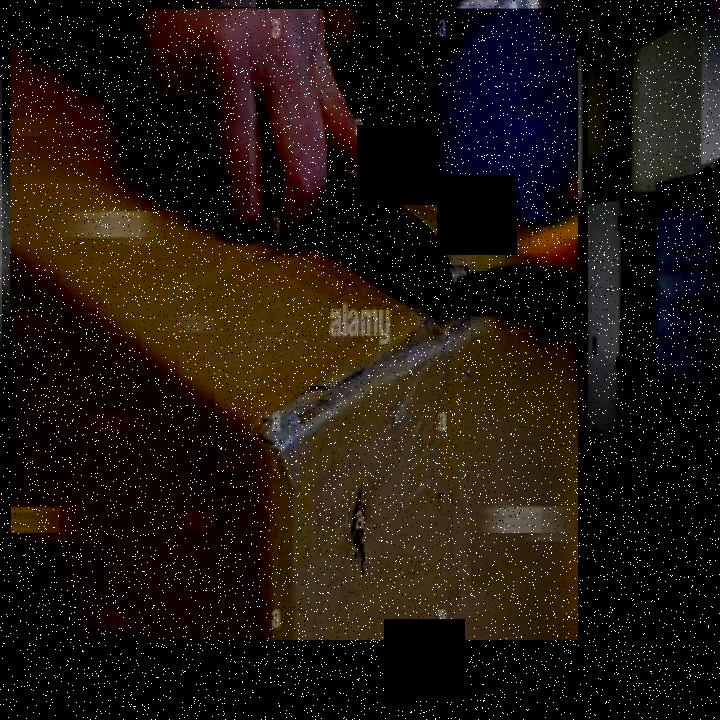box: (2, 0, 588, 651)
